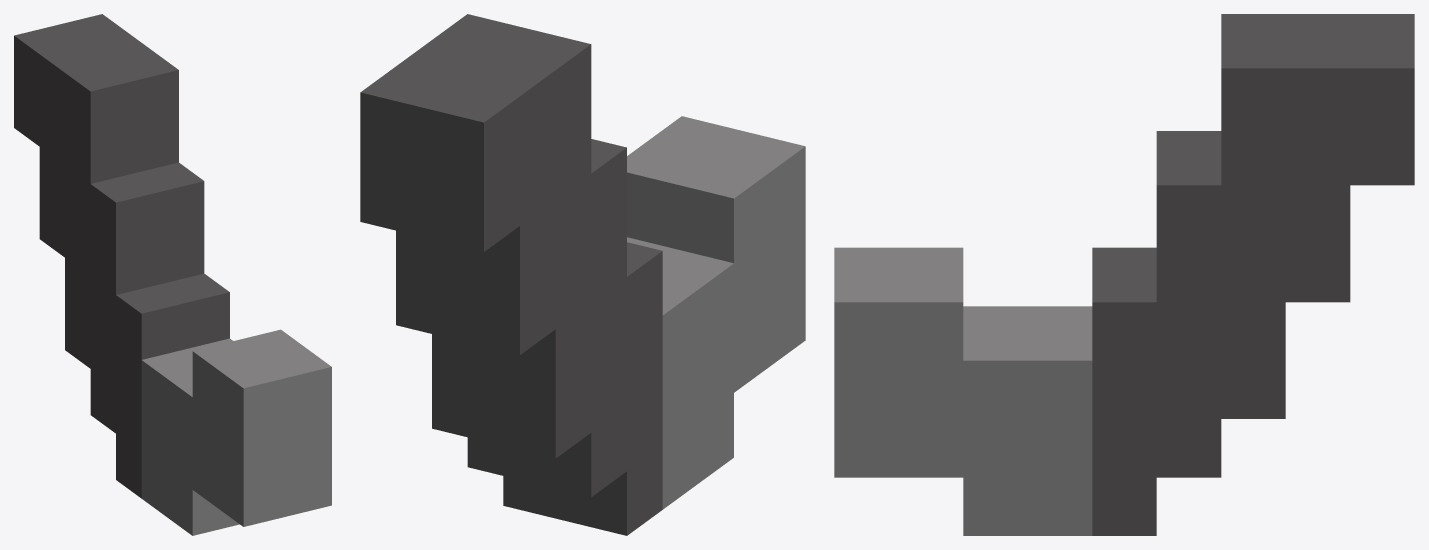
File: kitten__tail.glb
3 views of the same model, side by side, from view 1: azimuth 30°, elevation 25°; view 2: azimuth 150°, elevation 25°; view 3: azimuth 270°, elevation 25° (orthographic). The views are drawn at different scales.
Parts seen in each view (by area): view 1: kitten__tail; view 2: kitten__tail; view 3: kitten__tail.
Boxes of the visible parts, left/top/right/bottom form: kitten__tail: left=14, top=14, right=331, bottom=535; kitten__tail: left=360, top=14, right=805, bottom=535; kitten__tail: left=834, top=14, right=1414, bottom=535.
Bounding box in the file's own units: 0.2 × 0.8 × 0.9.
1 material, 1 textured.
